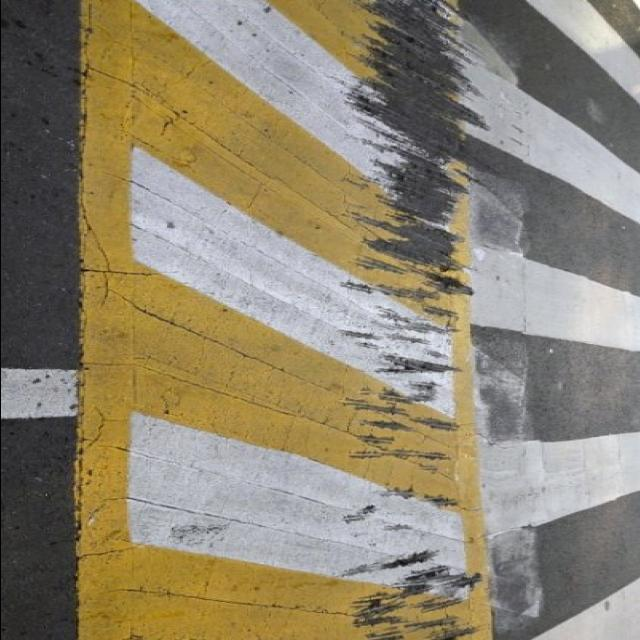Speed_Breaker: (44, 0, 512, 640), (72, 0, 494, 639)
